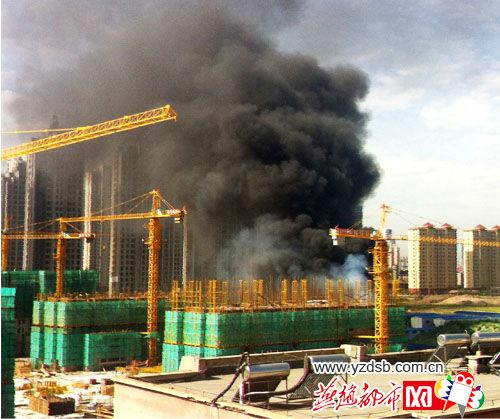smoke: (29, 13, 363, 270)
